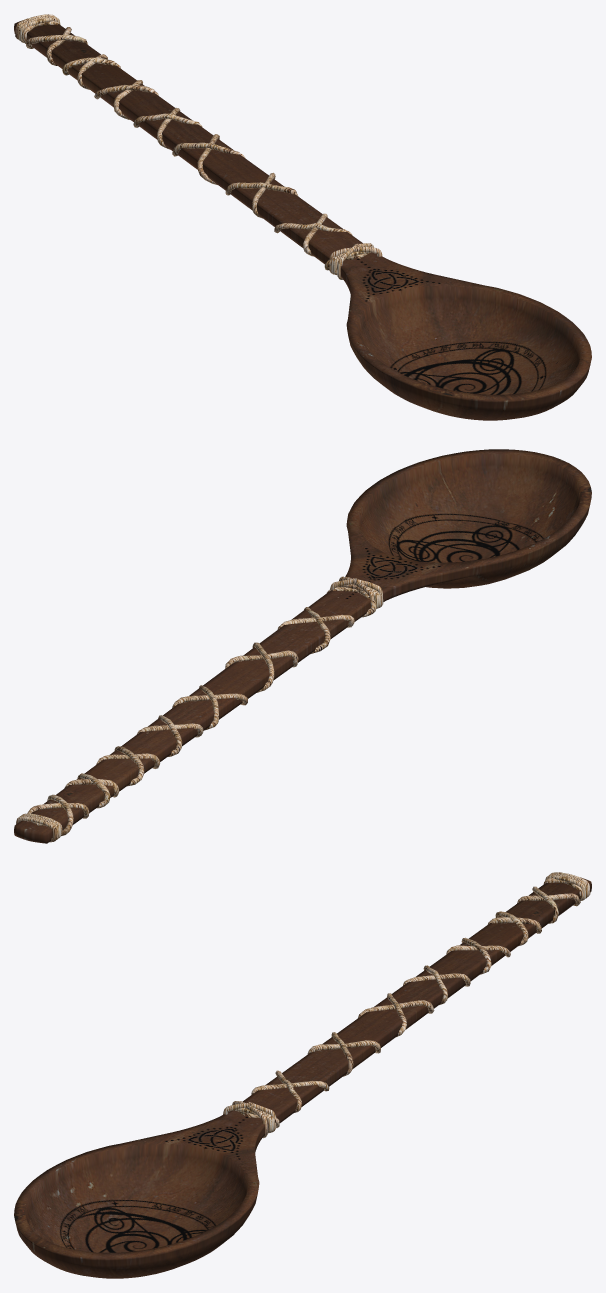
Rendered from WoodenSpoon.fbx.
3 renders of one model, top to bottom at view 1: azimuth 30°, elevation 25°; view 2: azimuth 150°, elevation 25°; view 3: azimuth 330°, elevation 25°, orthographic.
Parts seen in each view (by area): view 1: Spoon, Rope; view 2: Spoon, Rope; view 3: Spoon, Rope.
Boxes of the visible parts, x1,y1,x2,y2 form: Spoon: (14, 20, 591, 420); Rope: (15, 14, 382, 279); Spoon: (14, 449, 591, 843); Rope: (16, 576, 383, 842); Spoon: (14, 877, 591, 1278); Rope: (223, 872, 590, 1138).
Bounding box in the file's own units: 56.21 × 18.63 × 259.
2 materials, 2 textured.
